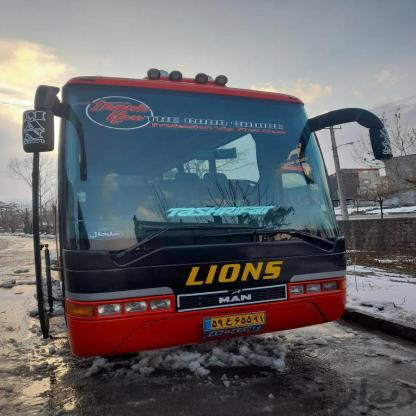Bus: (48, 61, 352, 364)
